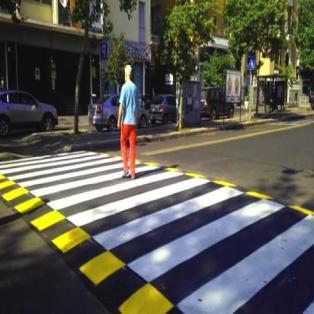Paso de Cebra: (87, 182, 290, 288)
